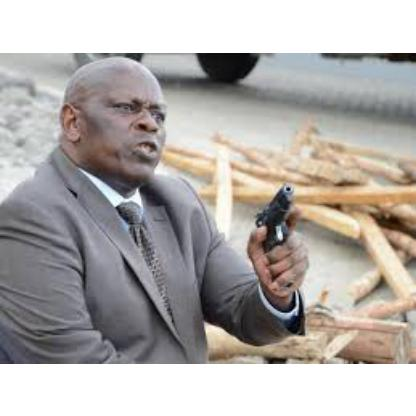gun: (246, 181, 304, 291)
